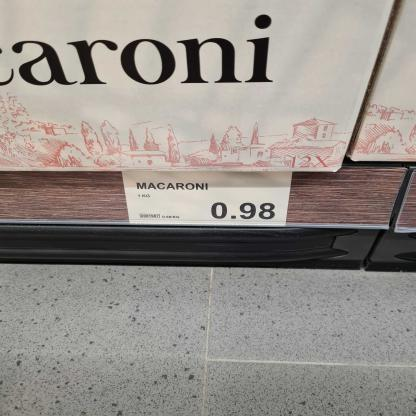prtg: (123, 173, 293, 227)
